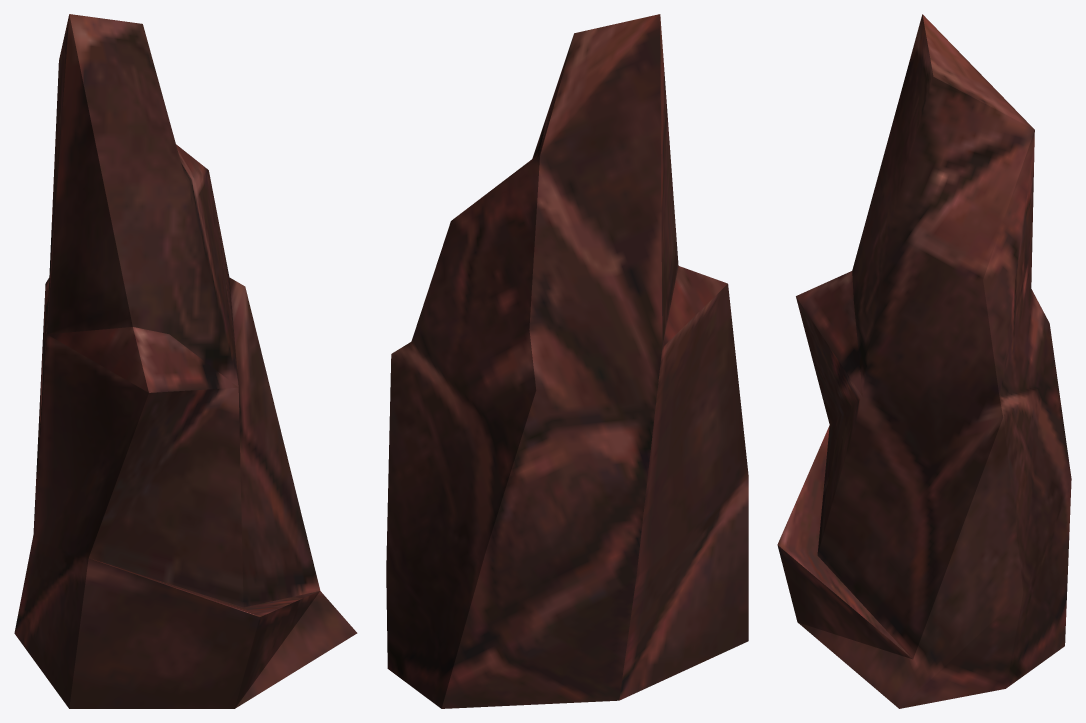
The model's file is stalacmite_tall01.fbx.
3 views of the same model, side by side, from view 1: azimuth 30°, elevation 25°; view 2: azimuth 150°, elevation 25°; view 3: azimuth 270°, elevation 25° (orthographic). The views are drawn at different scales.
Parts seen in each view (by area): view 1: 09_-_Default; view 2: 09_-_Default; view 3: 09_-_Default.
Boxes of the visible parts, <box> form: 09_-_Default: <box>14,14,357,708</box>; 09_-_Default: <box>386,14,748,708</box>; 09_-_Default: <box>777,14,1071,708</box>.
Size of the model in its own units: 1.56 by 3.16 by 1.45.
